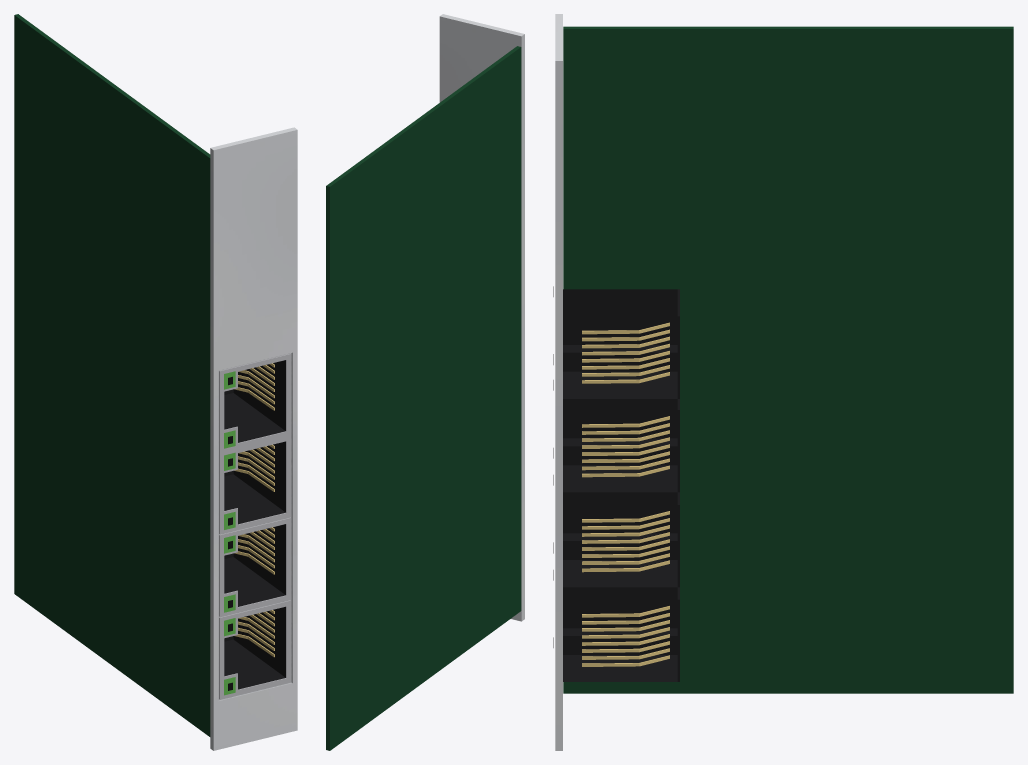
3 views of the same model, side by side, from view 1: azimuth 30°, elevation 25°; view 2: azimuth 150°, elevation 25°; view 3: azimuth 270°, elevation 25° (orthographic). The views are drawn at different scales.
Parts seen in each view (by area): view 1: Card; view 2: Card; view 3: Card.
Boxes of the visible parts, left/top/right/bottom form: Card: left=14, top=14, right=297, bottom=750; Card: left=326, top=14, right=524, bottom=750; Card: left=555, top=14, right=1013, bottom=750.
Bounding box in the file's own units: 0.0146 × 0.0996 × 0.0603.
8 materials, 2 textured.
